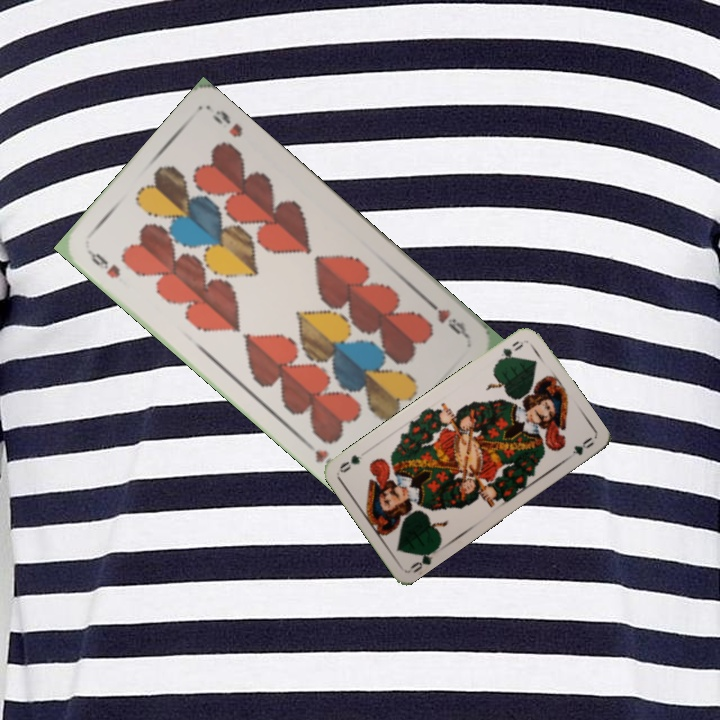GO: (406, 544, 441, 576), (493, 336, 527, 366)
H9: (424, 296, 472, 341), (83, 245, 123, 281)
